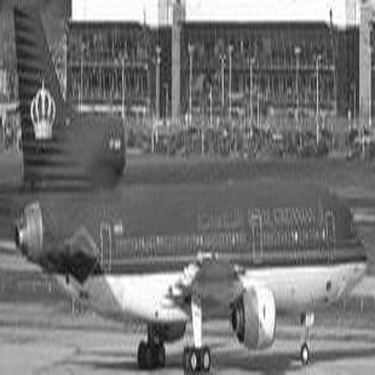airplane: (6, 5, 371, 372)
